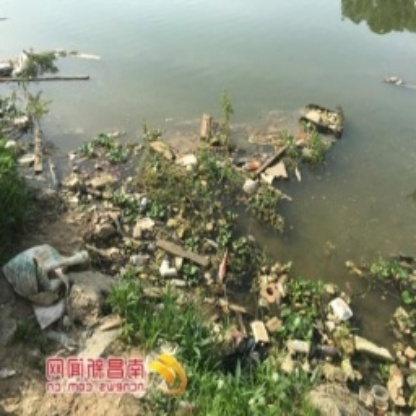branch: (3, 71, 100, 89)
